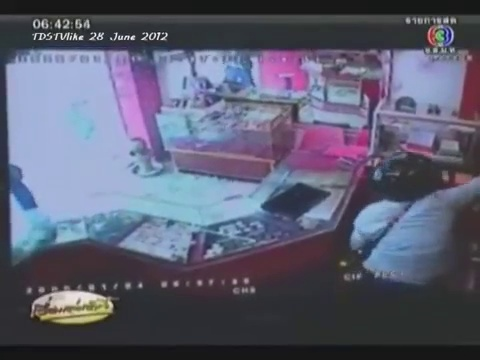helmet: (368, 148, 444, 203)
